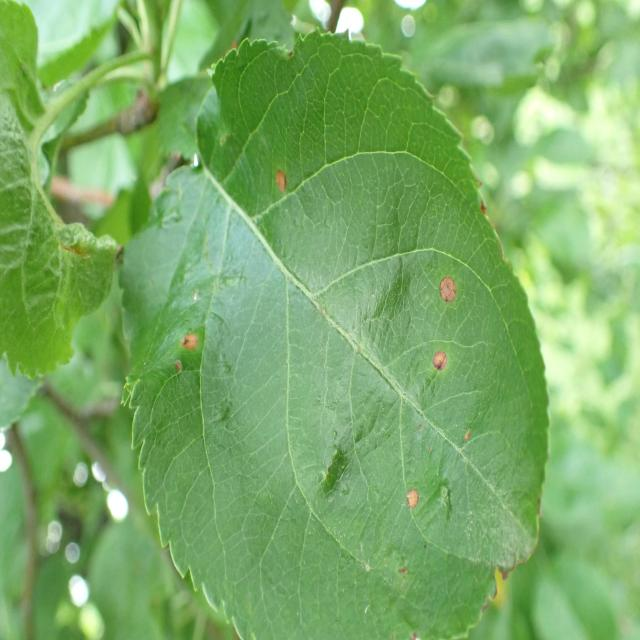Black Rot: (169, 320, 209, 403), (268, 138, 308, 215), (428, 243, 468, 317), (415, 344, 463, 383), (390, 486, 440, 522)
